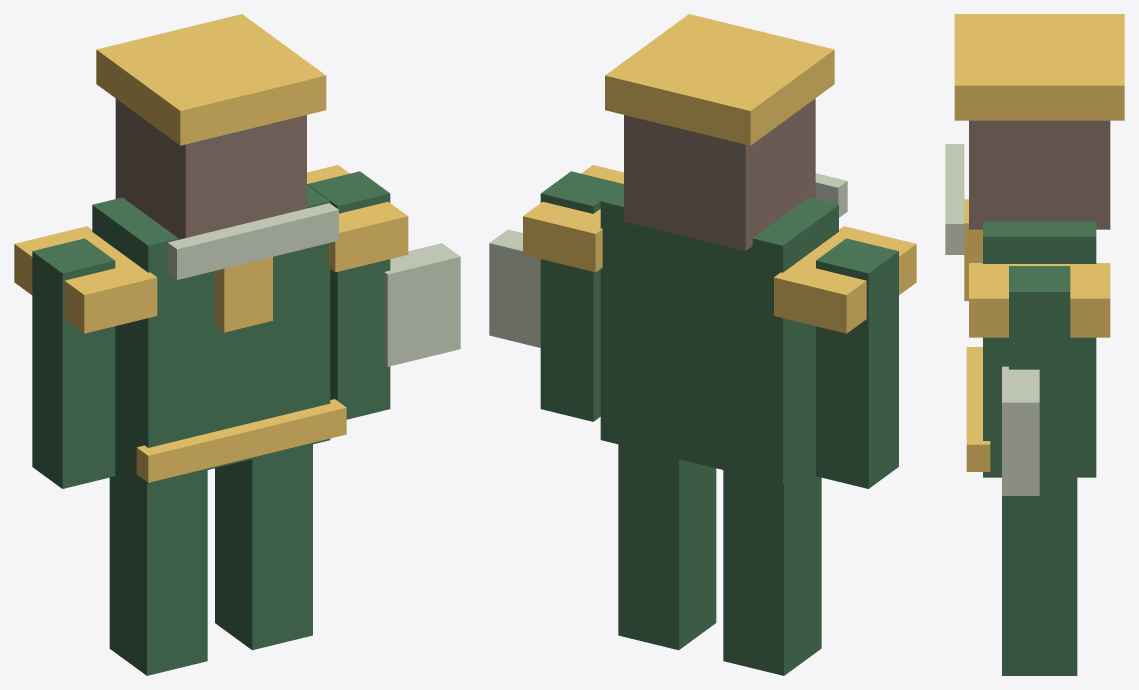
The model's file is 11_varren_frostrelay_medic_from_modular.glb.
3 renders of one model, left to right at view 1: azimuth 30°, elevation 25°; view 2: azimuth 150°, elevation 25°; view 3: azimuth 270°, elevation 25°, orthographic.
Visible parts, largest first — view 1: Varren Frostrelay, Medic from Modular; view 2: Varren Frostrelay, Medic from Modular; view 3: Varren Frostrelay, Medic from Modular.
Boxes of the visible parts, x1,y1,x2,y2 form: Varren Frostrelay, Medic from Modular: [14, 14, 460, 675]; Varren Frostrelay, Medic from Modular: [489, 14, 916, 675]; Varren Frostrelay, Medic from Modular: [945, 14, 1124, 675].
Bounding box in the file's own units: 1.06 × 1.49 × 0.4145.
